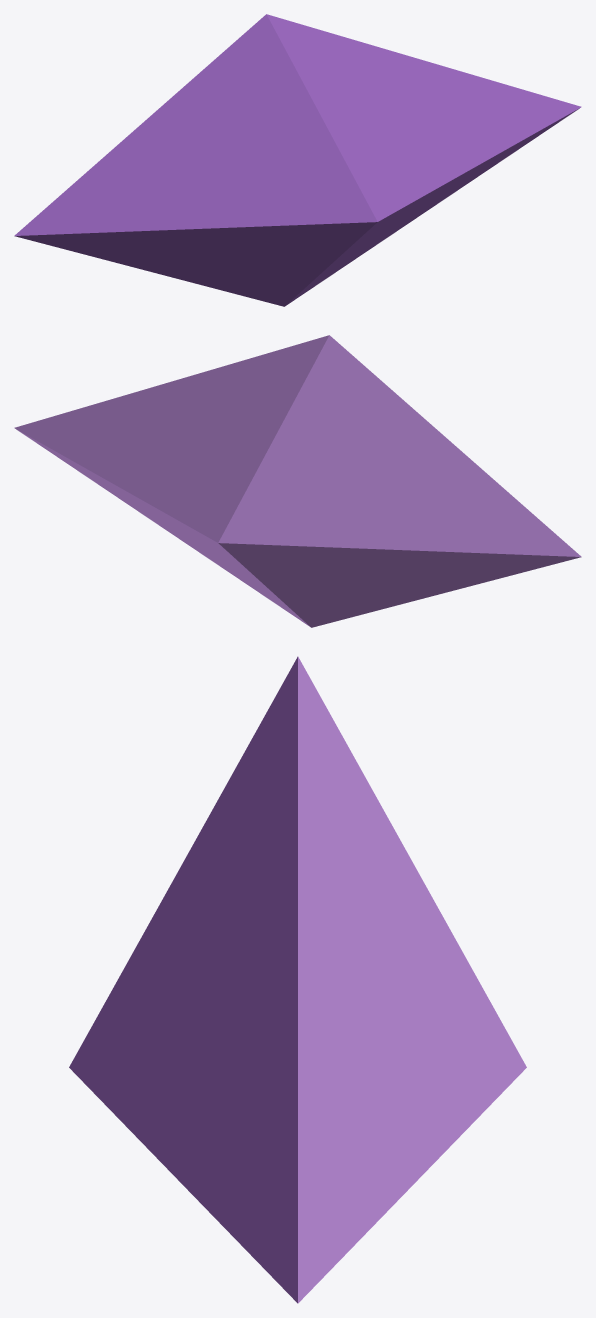
The picture shows the model from 3 angles, top to bottom: view 1: azimuth 30°, elevation 25°; view 2: azimuth 150°, elevation 25°; view 3: azimuth 270°, elevation 25°; orthographic projection. The views are drawn at different scales.
Parts seen in each view (by area): view 1: 菱折鸟身与折脊.001; view 2: 菱折鸟身与折脊.001; view 3: 菱折鸟身与折脊.001.
Part boxes in pixels (x1,y1,x2,y2): 菱折鸟身与折脊.001: (14,14,581,306); 菱折鸟身与折脊.001: (14,335,581,627); 菱折鸟身与折脊.001: (69,656,526,1303).
Size of the model in its own units: 0.63 by 0.315 by 0.22.
